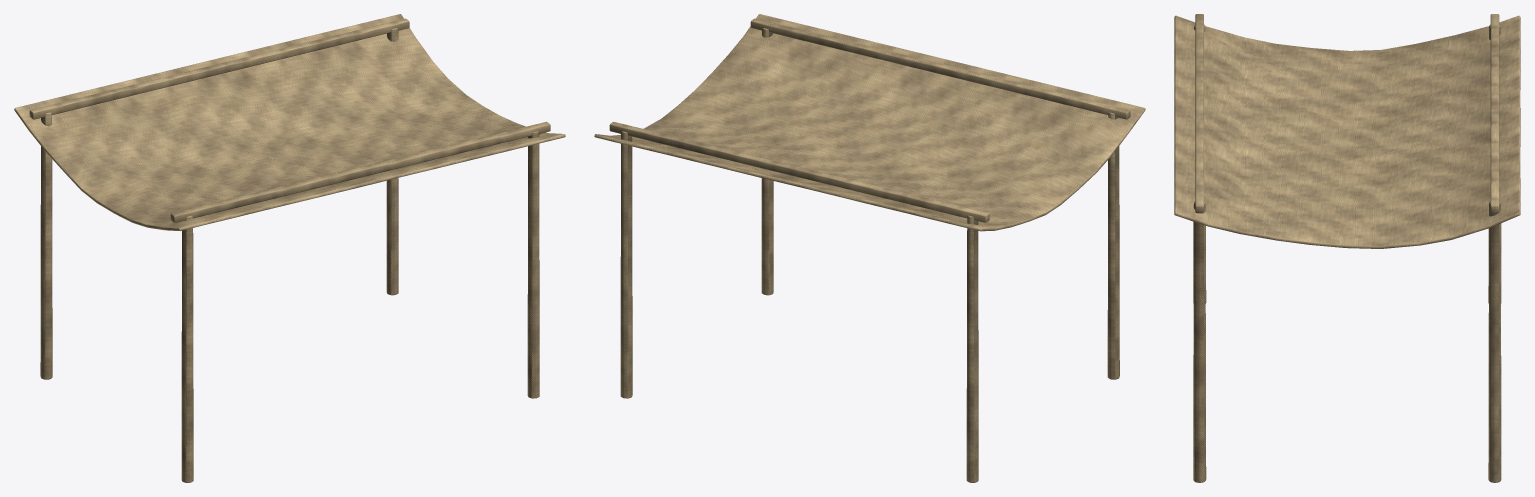
The model's file is p_awning.glb.
3 views of the same model, side by side, from view 1: azimuth 30°, elevation 25°; view 2: azimuth 150°, elevation 25°; view 3: azimuth 270°, elevation 25° (orthographic). The views are drawn at different scales.
Parts seen in each view (by area): view 1: awning; view 2: awning; view 3: awning.
Part boxes in pixels (x1,y1,x2,y2): awning: [14, 14, 565, 482]; awning: [594, 14, 1145, 482]; awning: [1174, 14, 1520, 482].
Bounding box in the file's own units: 3.8 × 2.53 × 2.82.
Materials: 1 (1 with a texture image).
